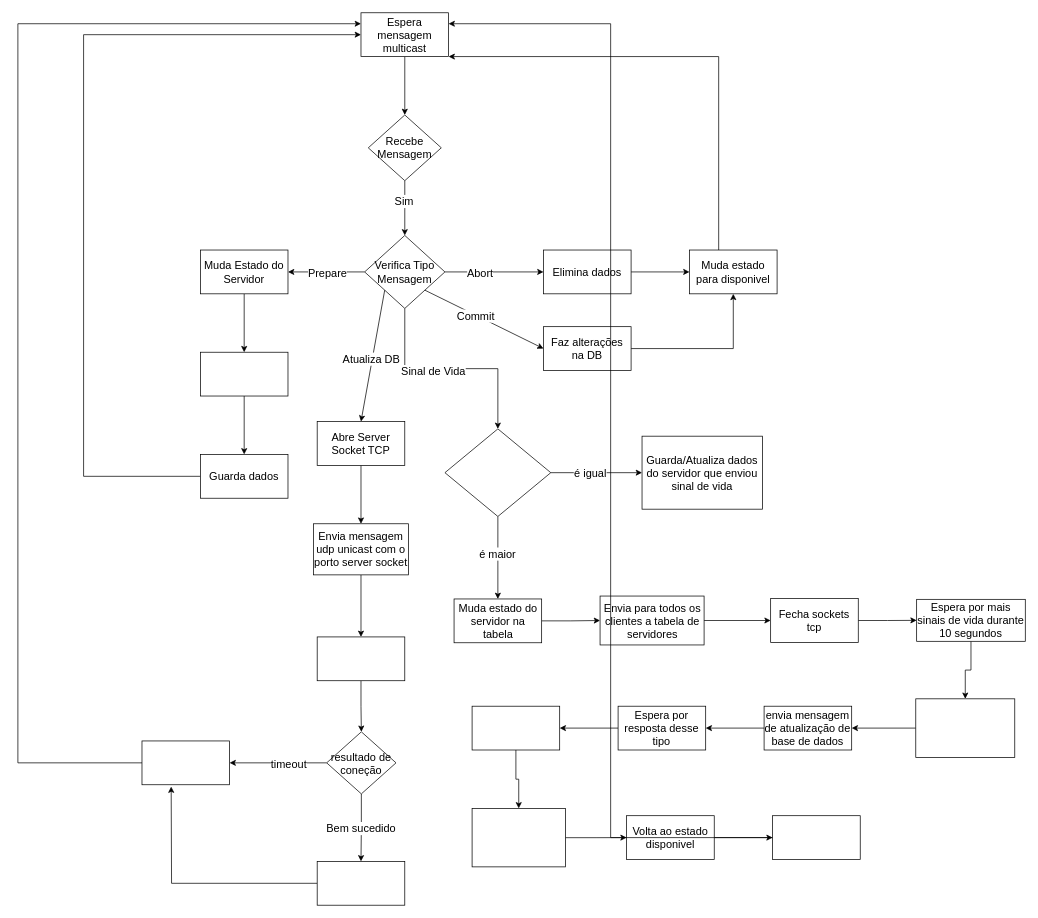
Image size: 1038x918. Some labels were removed from this diagram. The shapes that lost their labels are listed below. From the top down, each one's box as (x1, y1, x2, y2) in pixels, then its label:
(200, 351, 288, 396): Envia mensagem de confirmação
(444, 428, 551, 516): Verifica numero de DB
(316, 636, 405, 681): Espera por coneção
(471, 705, 560, 750): Estabelece ligação tcp
(915, 698, 1015, 757): Escolhe o servidor com base de dados mais atualizada e menos carga
(141, 740, 230, 785): termina
(471, 808, 565, 867): recebe comandos e atualiza a base de dados
(772, 815, 860, 860): notifica threads
(316, 861, 405, 905): envia commandos
